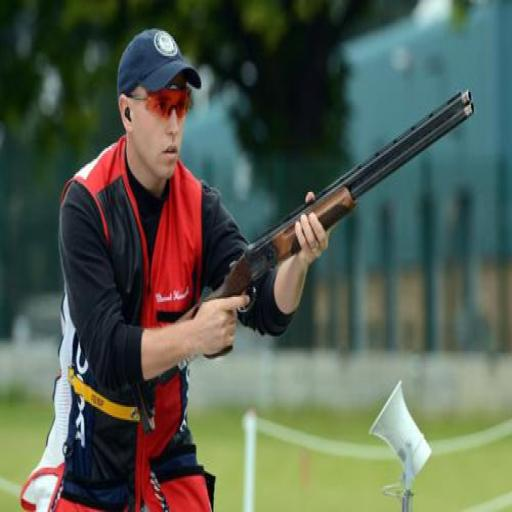shooting: (20, 25, 333, 510)
